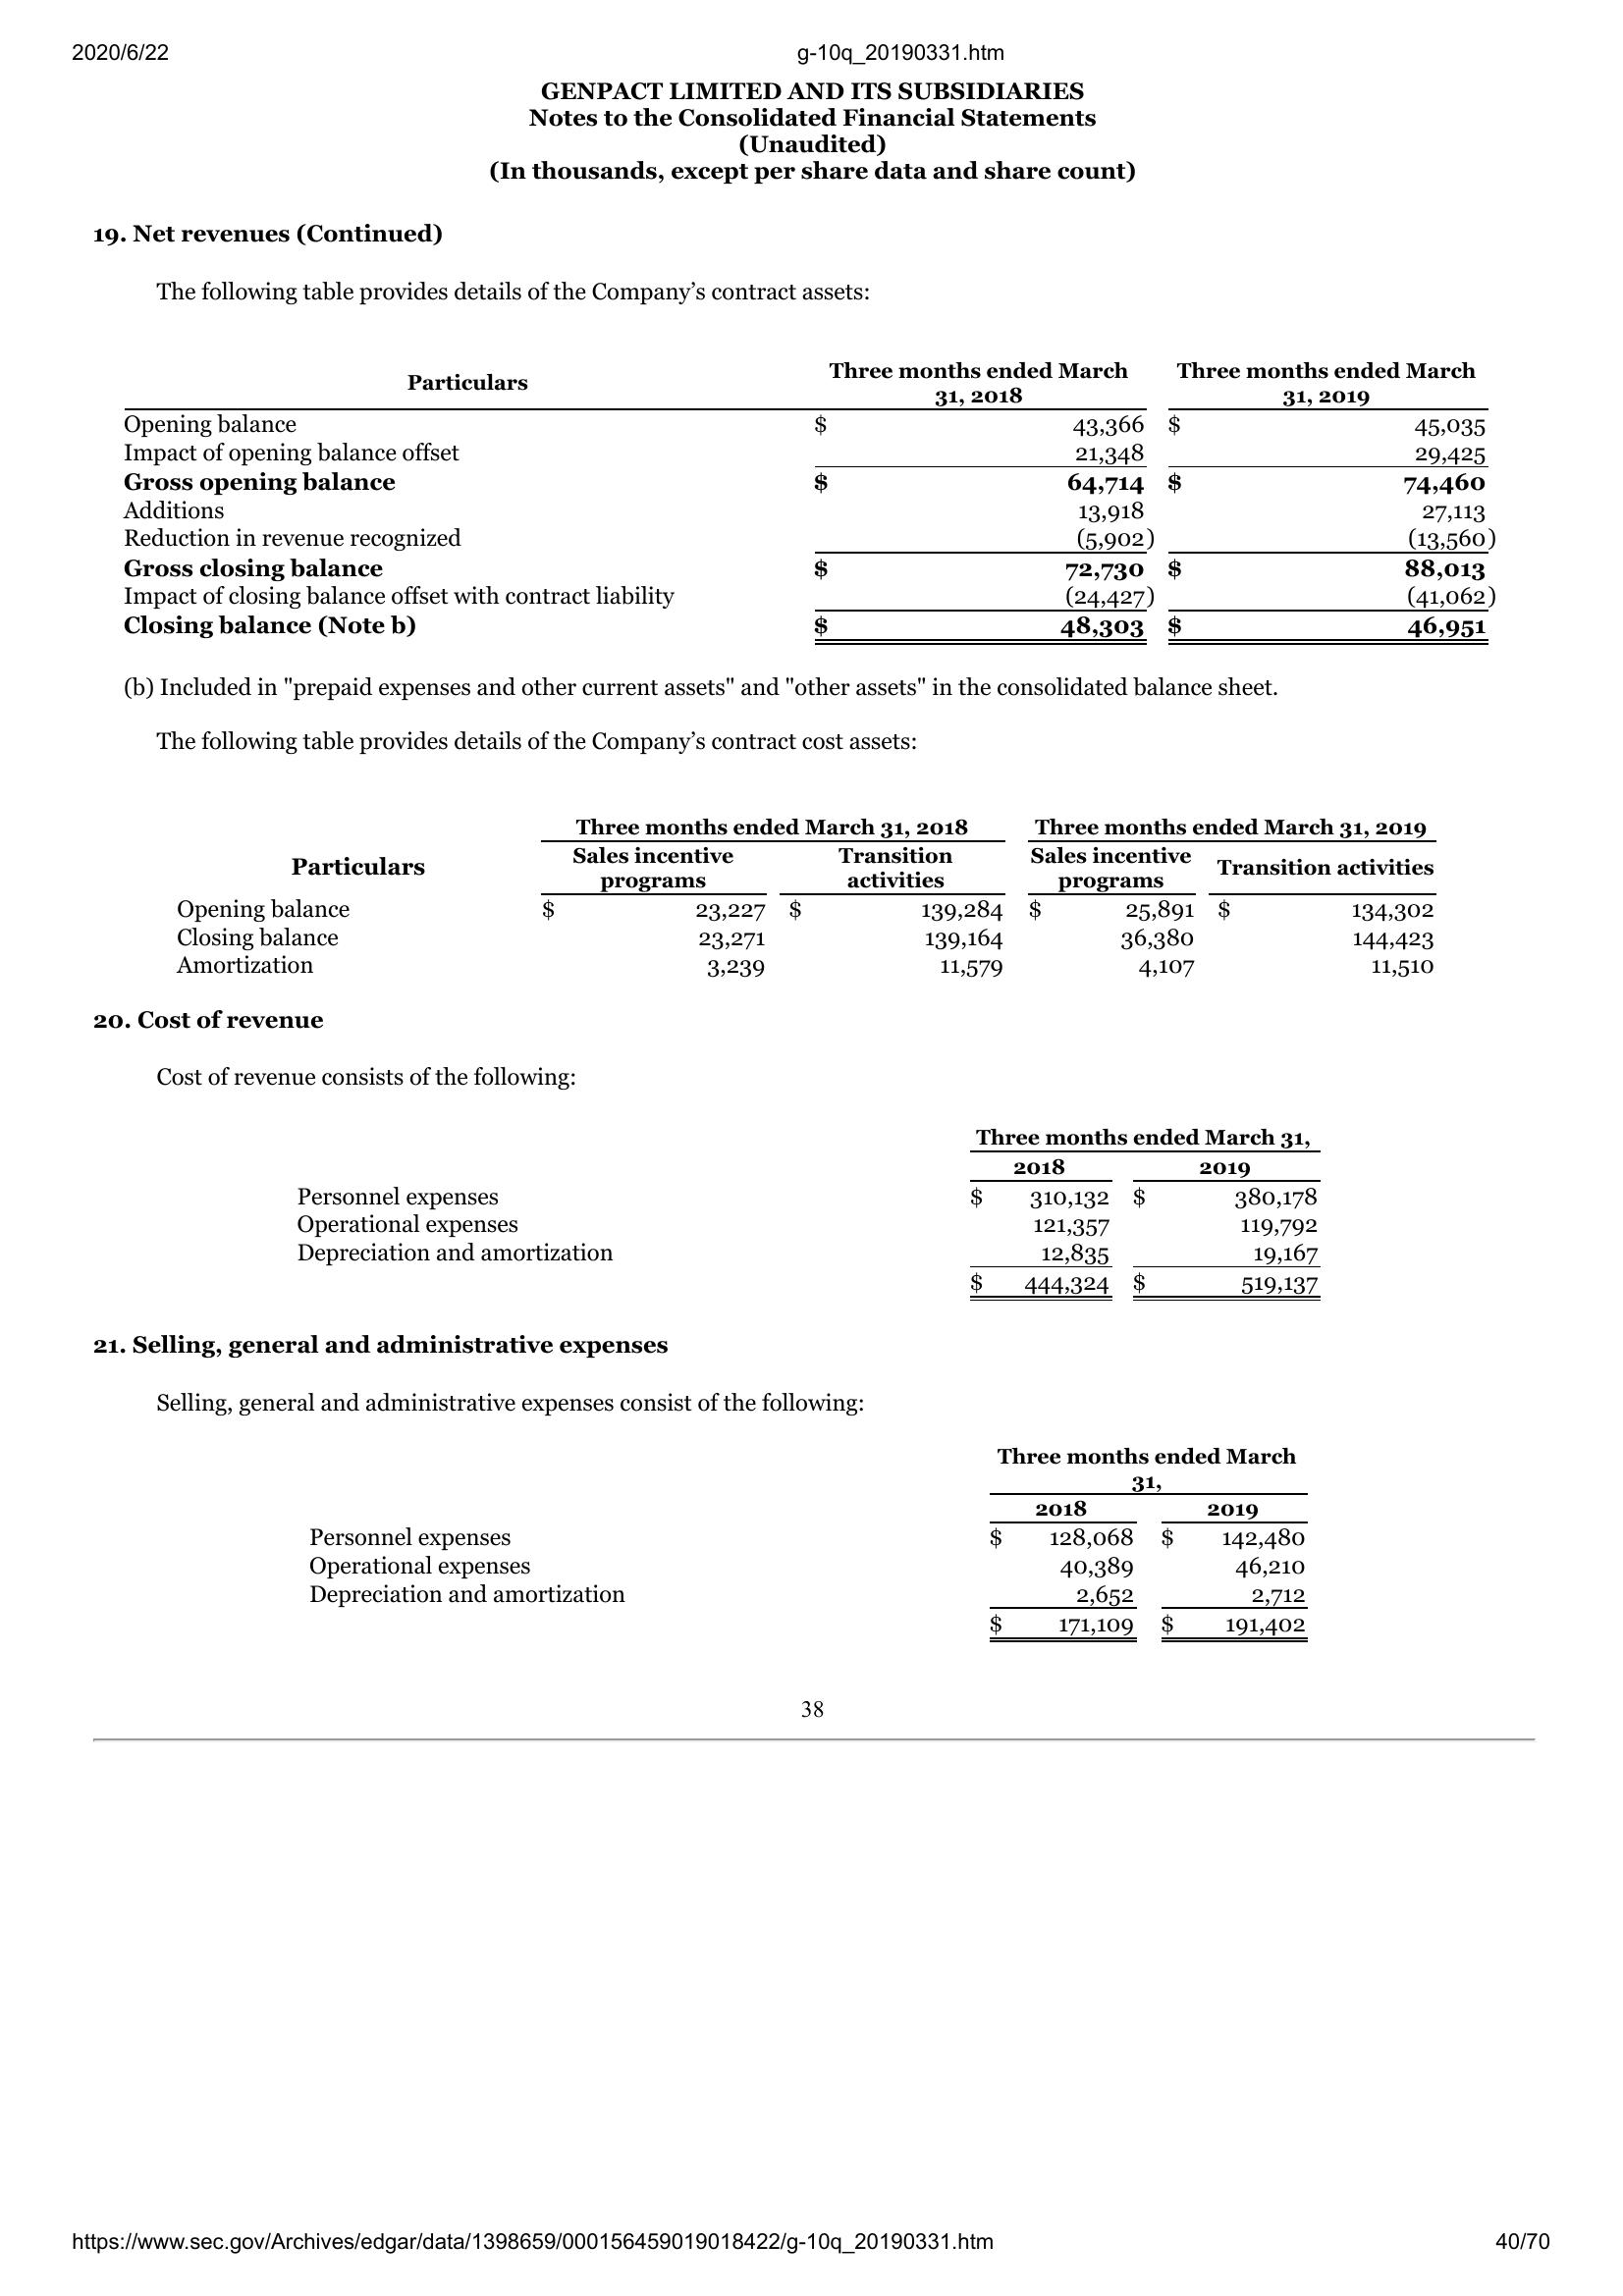table: (112, 353, 1500, 651), (165, 800, 1449, 990), (304, 1439, 1316, 1654), (290, 1120, 1330, 1308)
